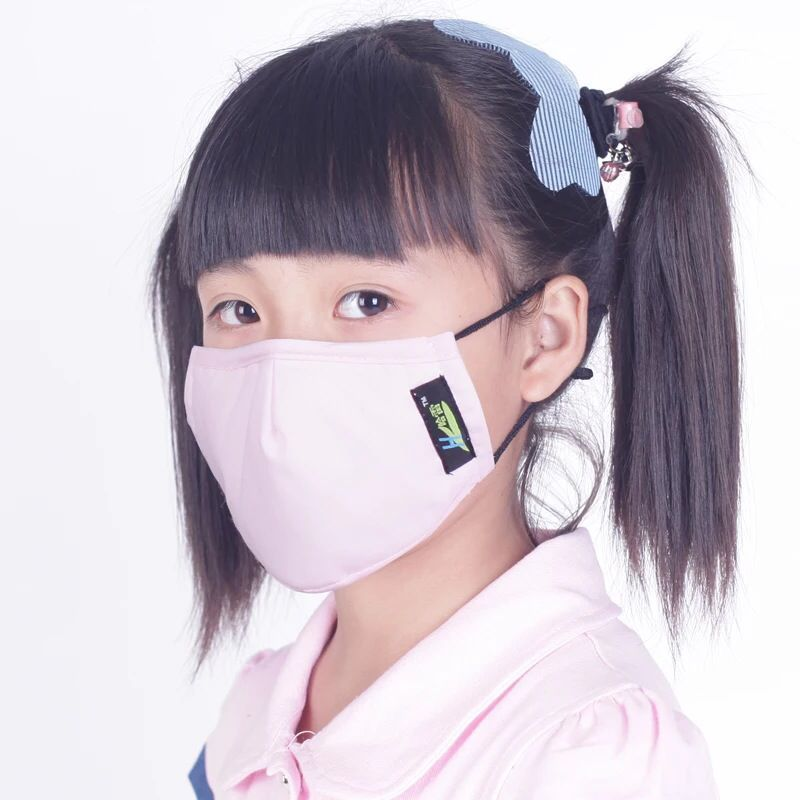face_mask: (194, 158, 500, 547)
